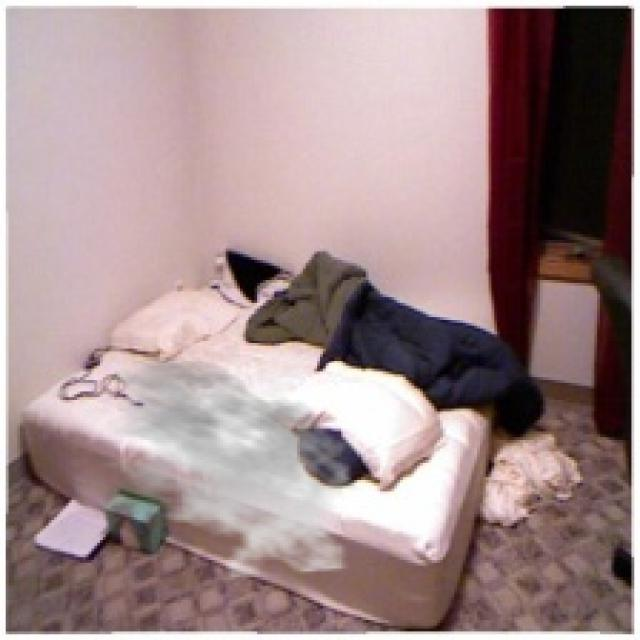smoke: (88, 351, 363, 580)
